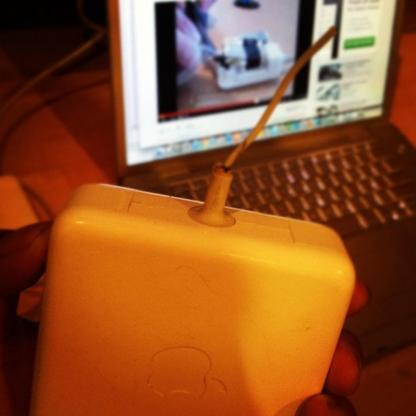board: (104, 0, 416, 367)
